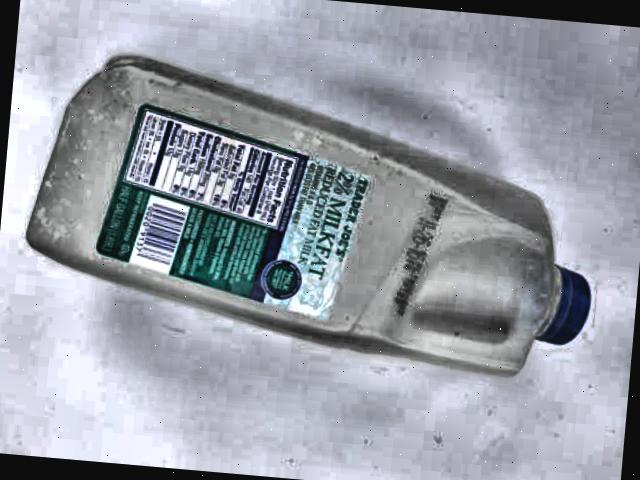Plastic: (2, 33, 612, 396)
